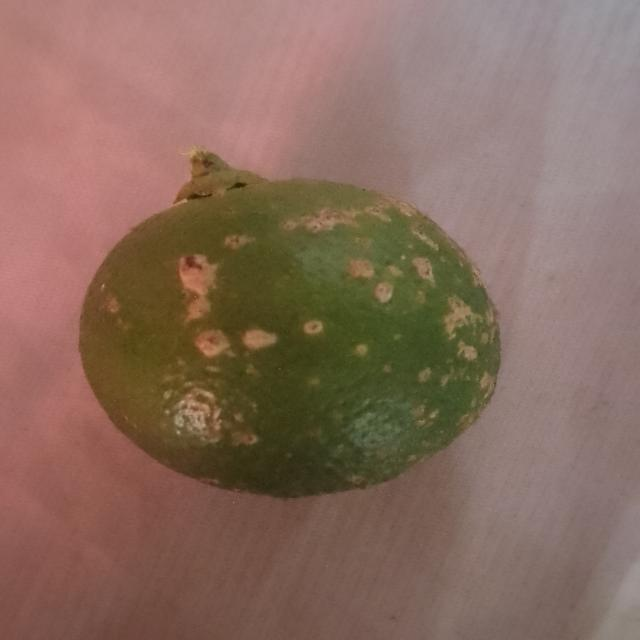scab: (74, 180, 496, 508)
